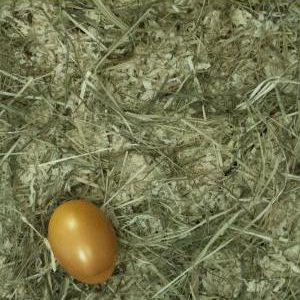egg: (49, 199, 118, 285)
